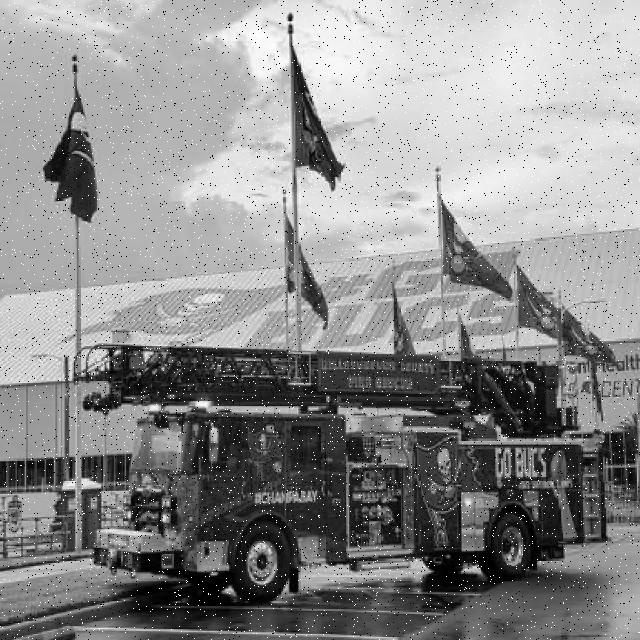Fire Truck: (74, 344, 610, 605)
